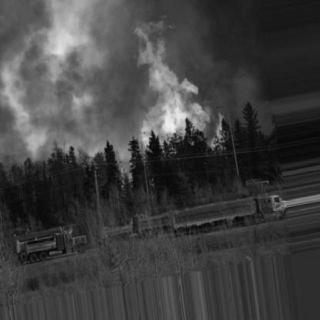Fire: (131, 11, 227, 154)
